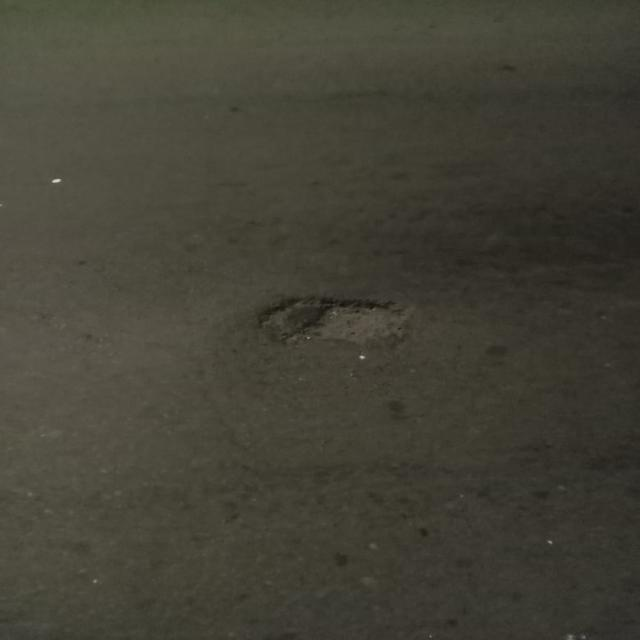Buraco: (248, 292, 416, 352)
